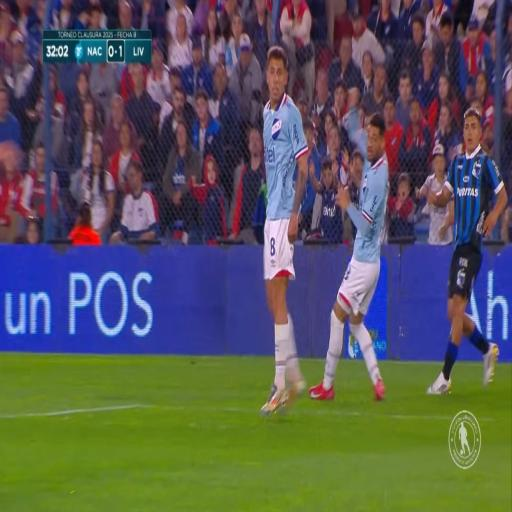Player: (334, 117, 384, 408), (438, 101, 486, 392), (262, 46, 297, 425)
